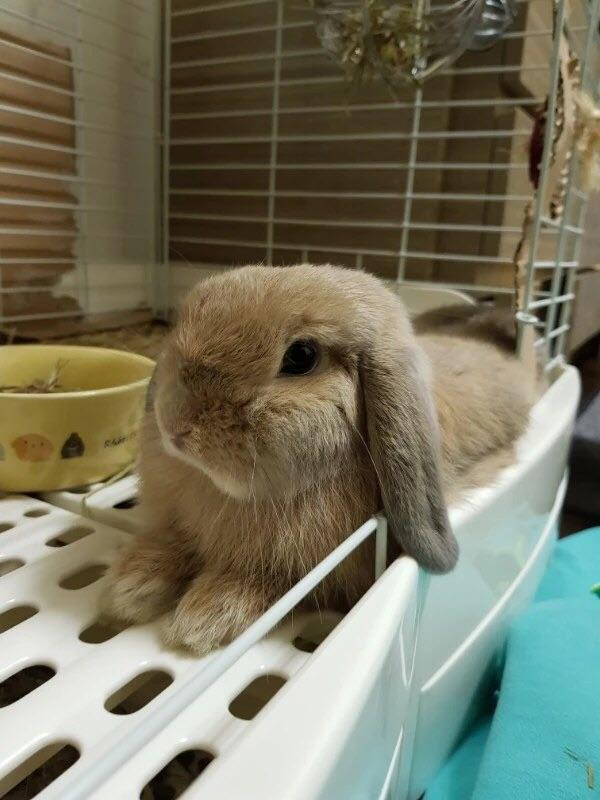bunny: (93, 243, 551, 663)
